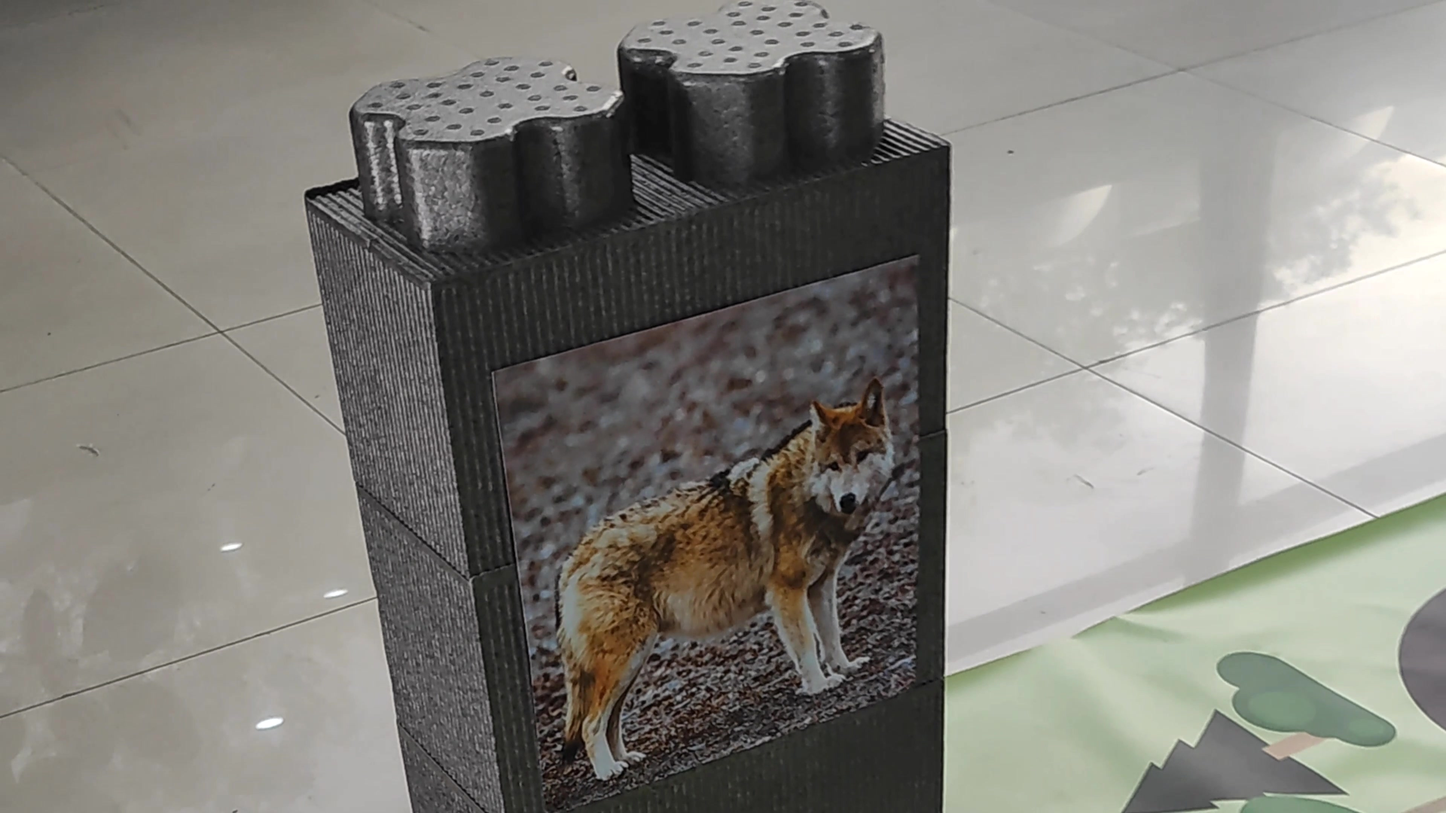wolf: (546, 371, 898, 789)
